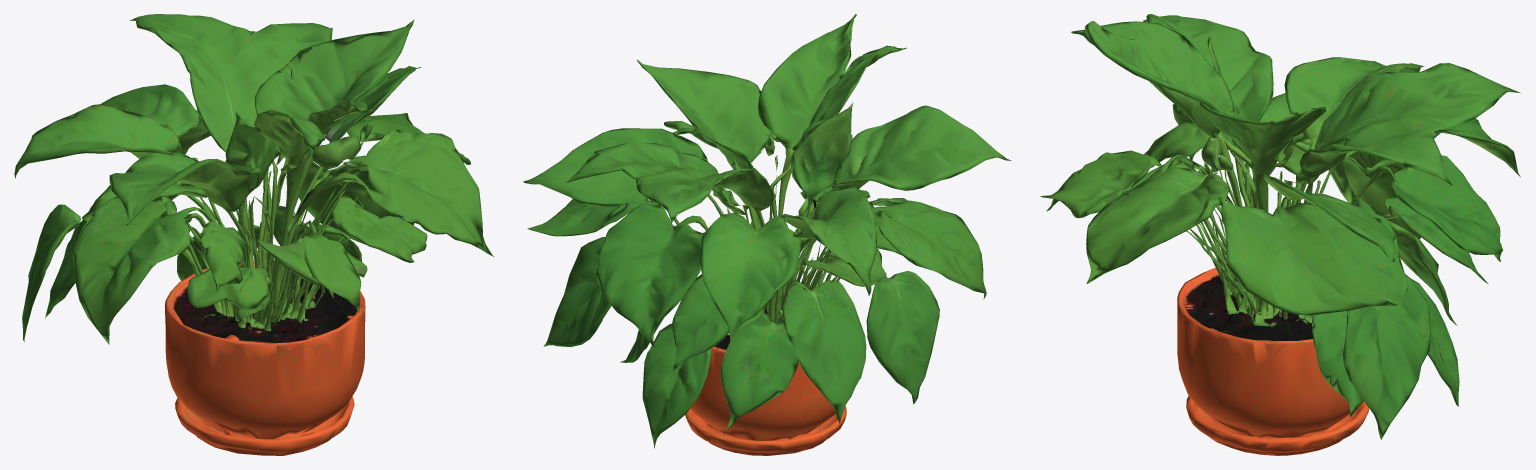
Rendered from housePlant.glb.
3 views of the same model, side by side, from view 1: azimuth 30°, elevation 25°; view 2: azimuth 150°, elevation 25°; view 3: azimuth 270°, elevation 25° (orthographic). The views are drawn at different scales.
Size of the model in its own units: 1.69 by 1.5 by 1.65.
Materials: 1 (1 with a texture image).
